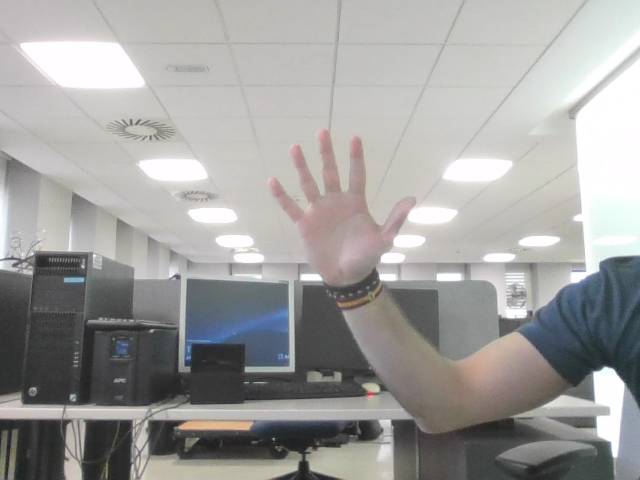Mano Abierta: (279, 141, 402, 255)
